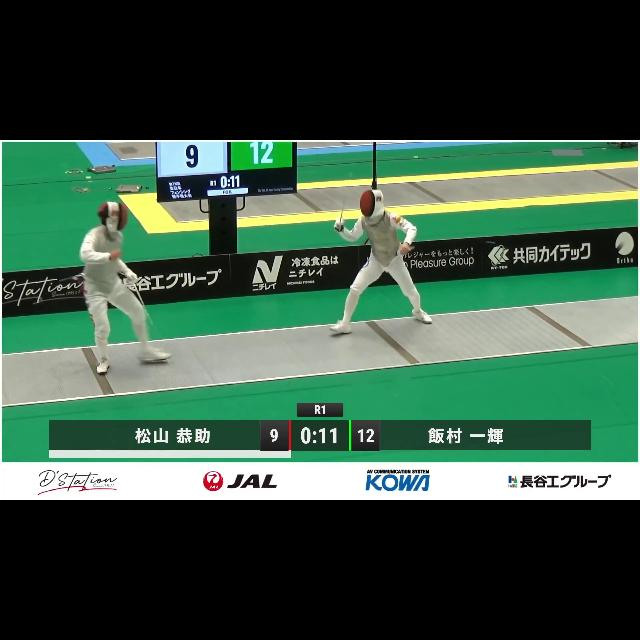blade: (127, 274, 173, 371), (332, 164, 360, 232)
